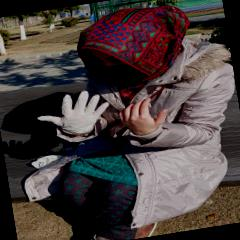gloved: (33, 89, 111, 138)
not-gloved: (115, 96, 170, 134)
